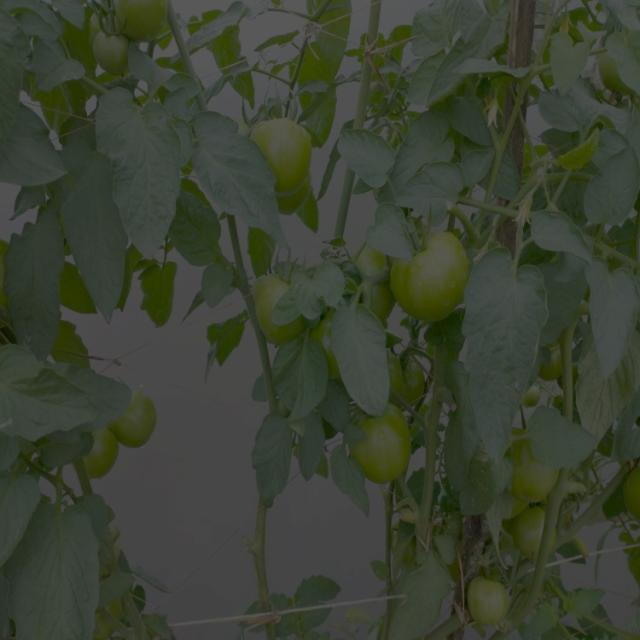tomato: (390, 229, 471, 326), (347, 408, 421, 485), (256, 111, 320, 194), (504, 447, 563, 496), (465, 573, 517, 625), (110, 1, 169, 46), (390, 353, 431, 412), (254, 278, 295, 332), (512, 498, 546, 561), (86, 428, 124, 479), (90, 34, 131, 79), (117, 394, 153, 443)
